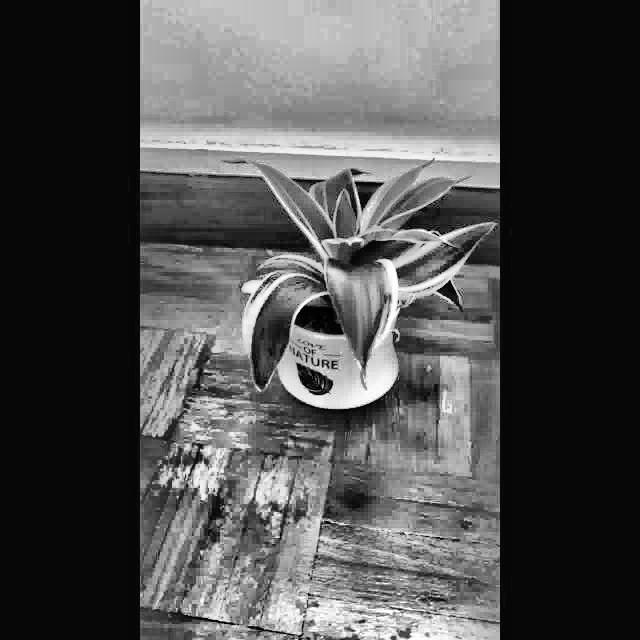plants: (218, 150, 500, 416)
